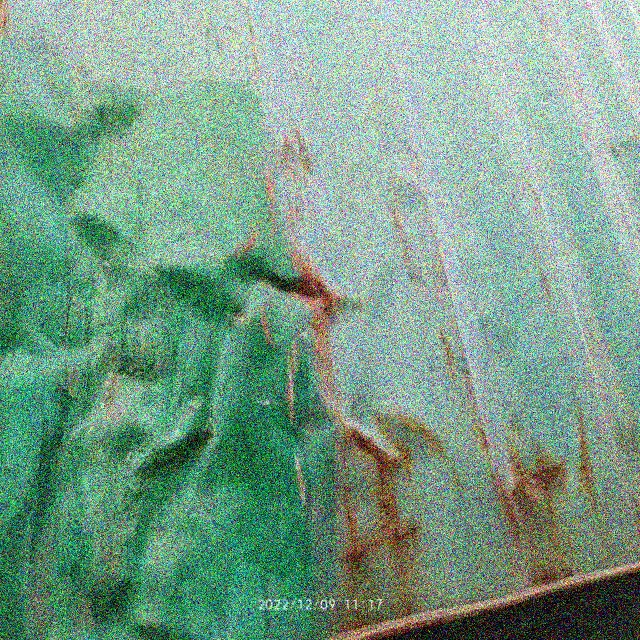Dent: (1, 96, 322, 608)
Rusty: (344, 418, 421, 553)
